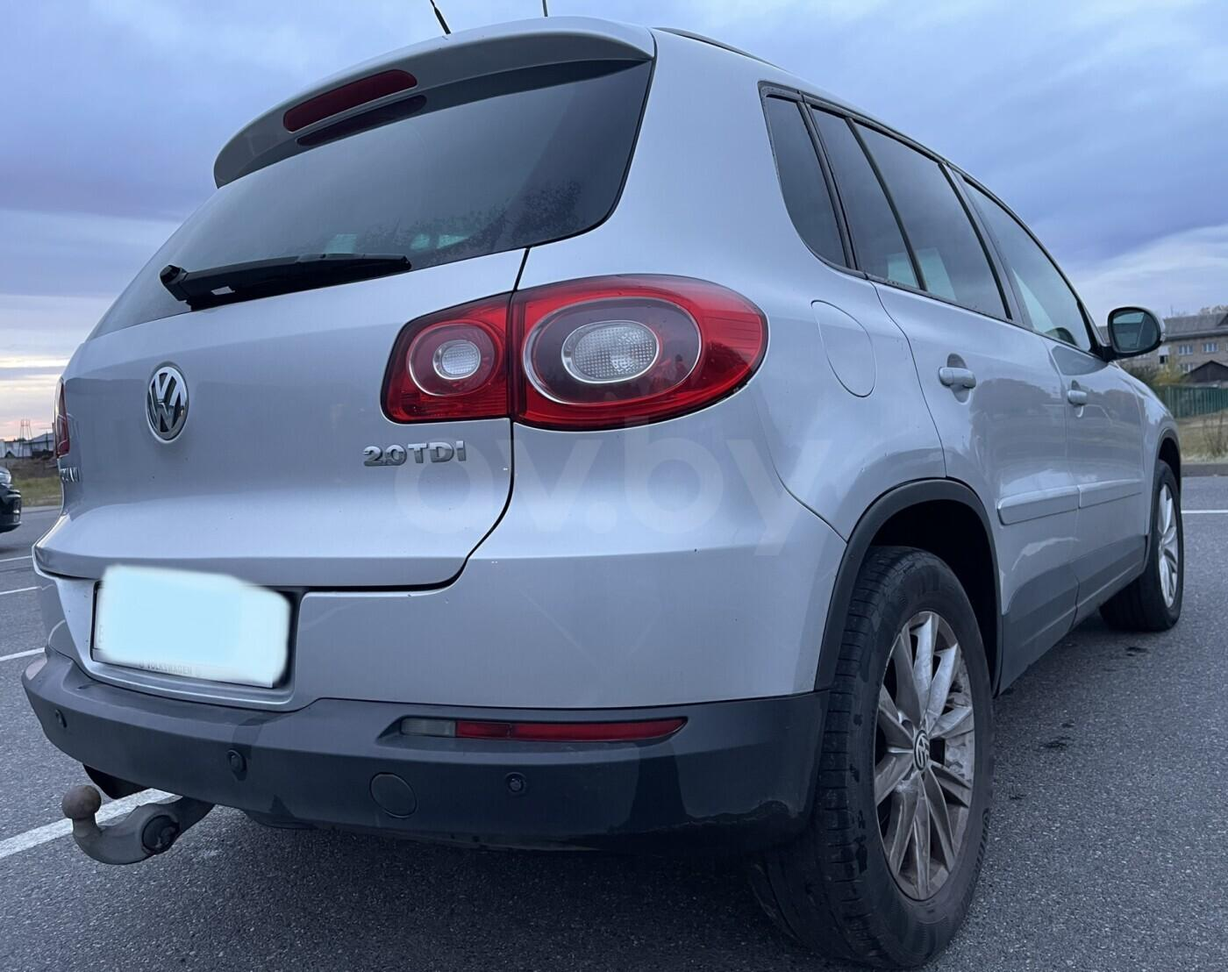Tiguan_2007-2011: (19, 13, 1189, 972)
